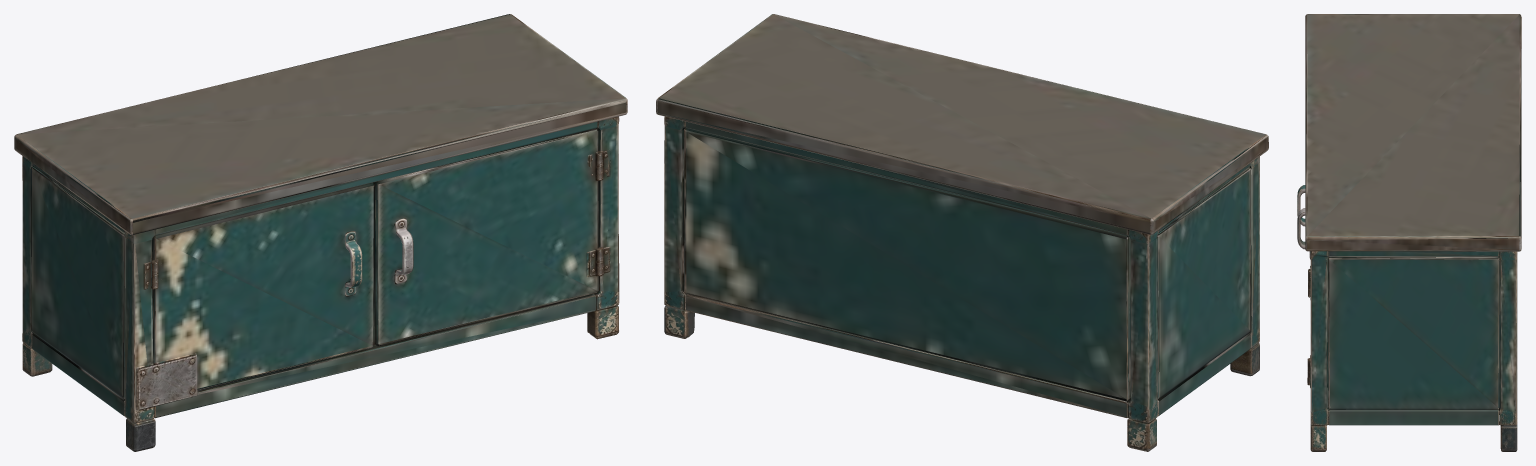
Rendered from cabinet-low-t25.glb.
3 renders of one model, left to right at view 1: azimuth 30°, elevation 25°; view 2: azimuth 150°, elevation 25°; view 3: azimuth 270°, elevation 25°, orthographic. The views are drawn at different scales.
Visible parts, largest first — view 1: cabinet-low-t25; view 2: cabinet-low-t25; view 3: cabinet-low-t25.
Part boxes in pixels (bbox=[...]): cabinet-low-t25: bbox=[14, 14, 627, 451]; cabinet-low-t25: bbox=[656, 14, 1268, 451]; cabinet-low-t25: bbox=[1297, 14, 1521, 451].
Size of the model in its own units: 1.87 by 0.85 by 0.791.
Materials: 1 (1 with a texture image).
